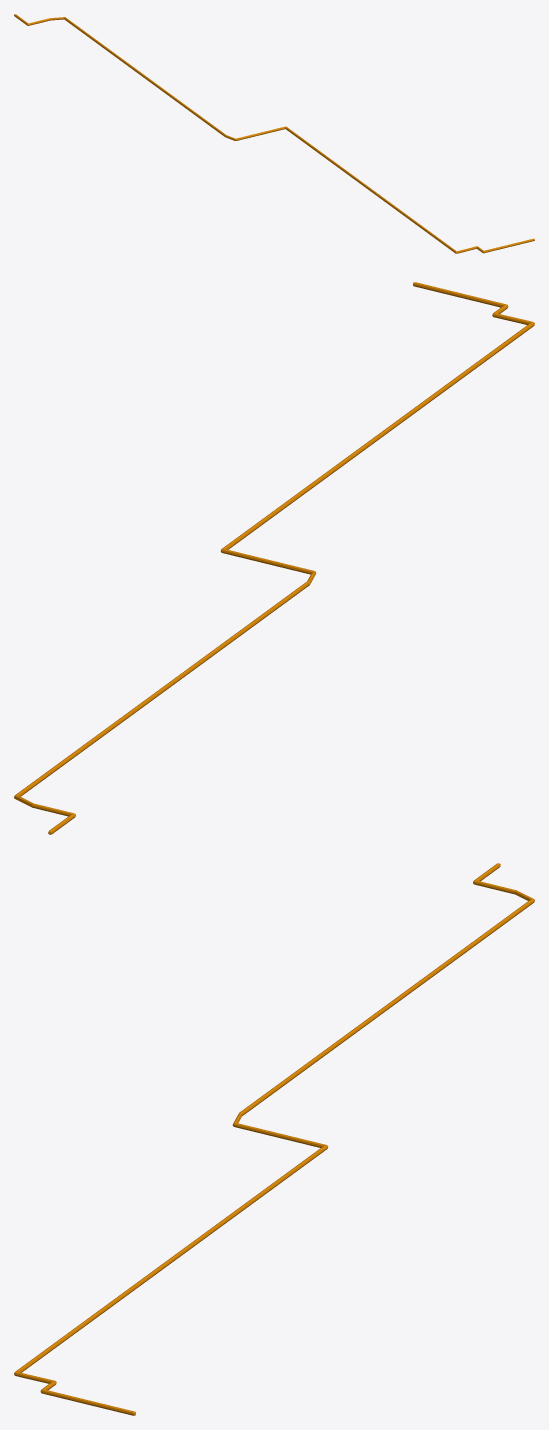
3 renders of one model, top to bottom at view 1: azimuth 30°, elevation 25°; view 2: azimuth 150°, elevation 25°; view 3: azimuth 330°, elevation 25°, orthographic. The views are drawn at different scales.
Size of the model in its own units: 1444 by 20 by 5605.
